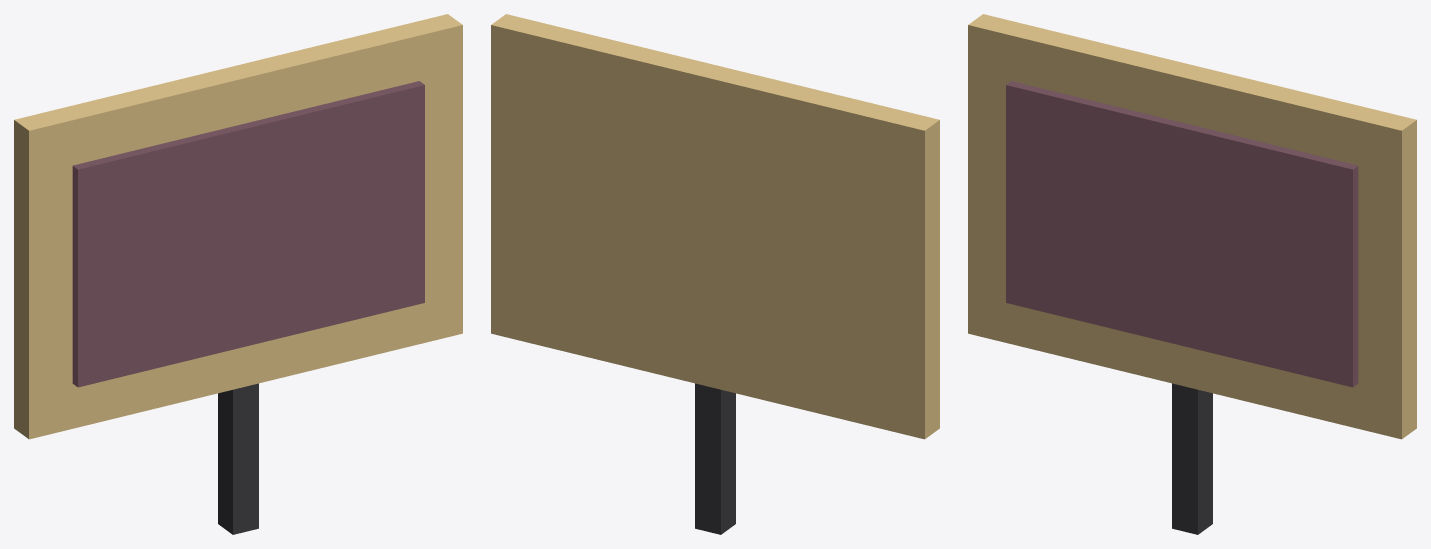
File: mm_plaque.glb
3 renders of one model, left to right at view 1: azimuth 30°, elevation 25°; view 2: azimuth 150°, elevation 25°; view 3: azimuth 330°, elevation 25°, orthographic.
Visible parts, largest first — view 1: plate, gold, iron; view 2: gold, iron; view 3: plate, gold, iron.
Part boxes in pixels (bbox=[...]): plate: bbox=[72, 81, 424, 387]; gold: bbox=[14, 14, 462, 439]; iron: bbox=[218, 383, 258, 534]; gold: bbox=[491, 14, 939, 439]; iron: bbox=[695, 383, 735, 534]; plate: bbox=[1006, 81, 1358, 387]; gold: bbox=[968, 14, 1416, 439]; iron: bbox=[1172, 383, 1212, 534].
Size of the model in its own units: 0.5 by 0.5 by 0.041.
